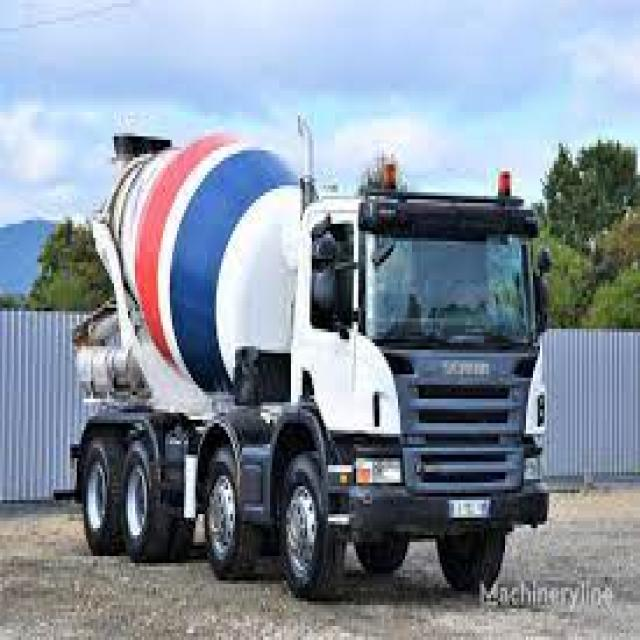Mixer Truck: (52, 113, 554, 606)
